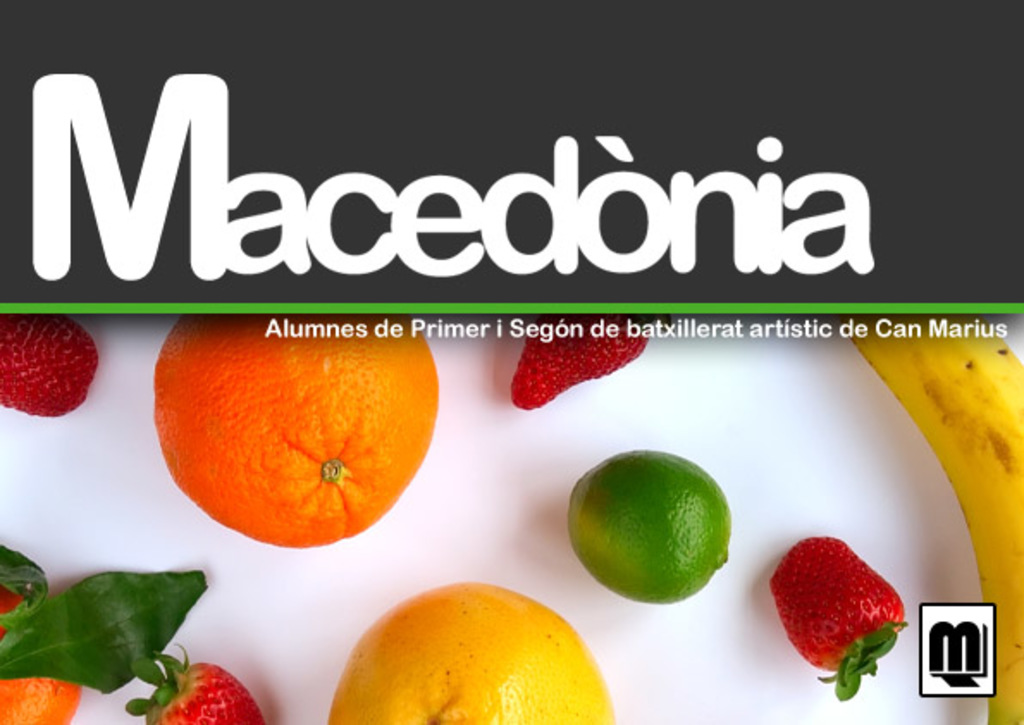Ripe: (150, 322, 439, 558), (325, 586, 618, 723)
